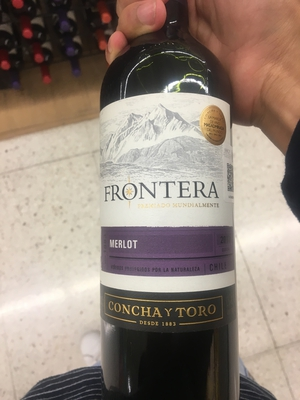frontera merlot: (96, 14, 233, 400)
